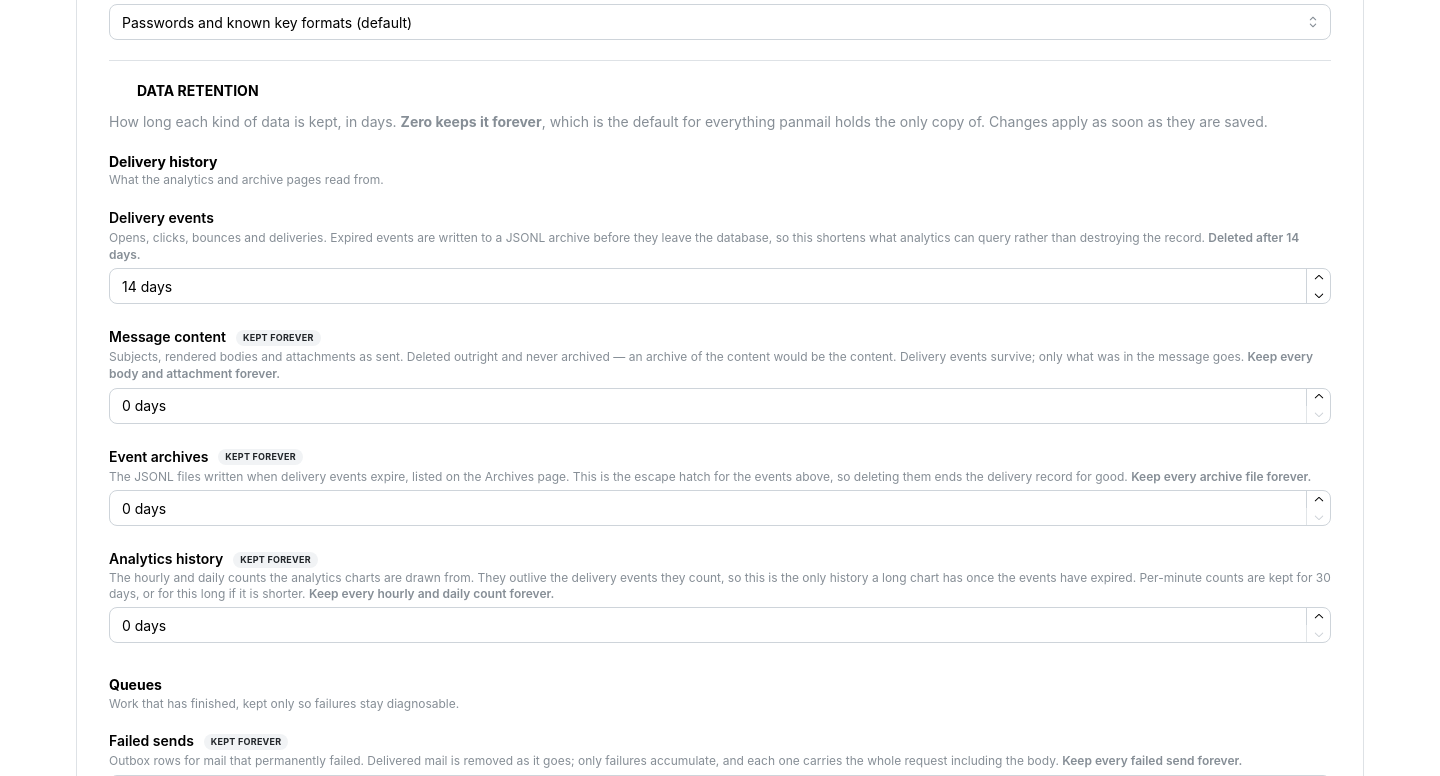
Test: SettingsPage retention › switching on message content retention asks first
(page scrolled)
Step 1. Replace the text in the field labelled "Message content Kept forever" with "30" → point(720, 406), box [109,388,1331,424]
(page scrolled)
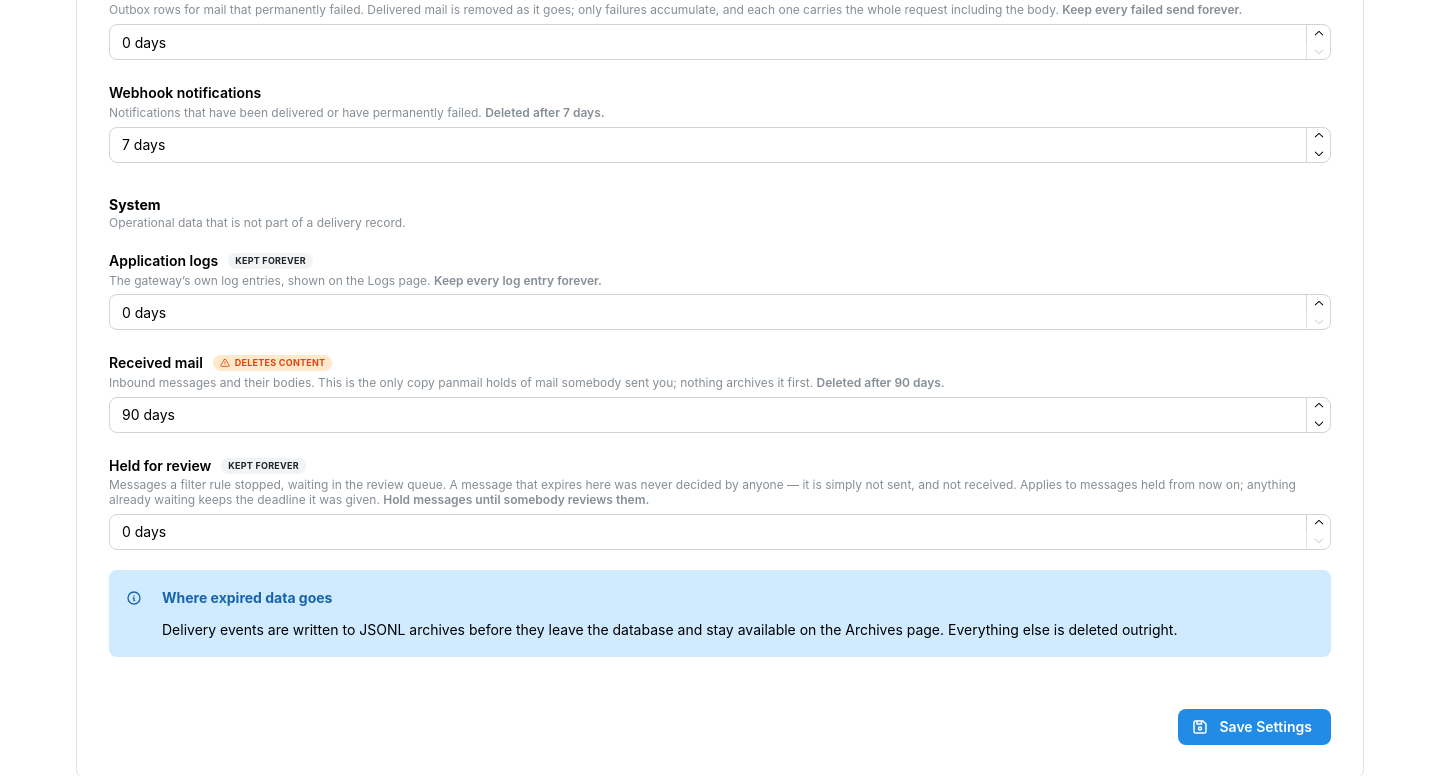
Step 2. Click the button "Save Settings" → point(1255, 727), box [1178,709,1331,745]
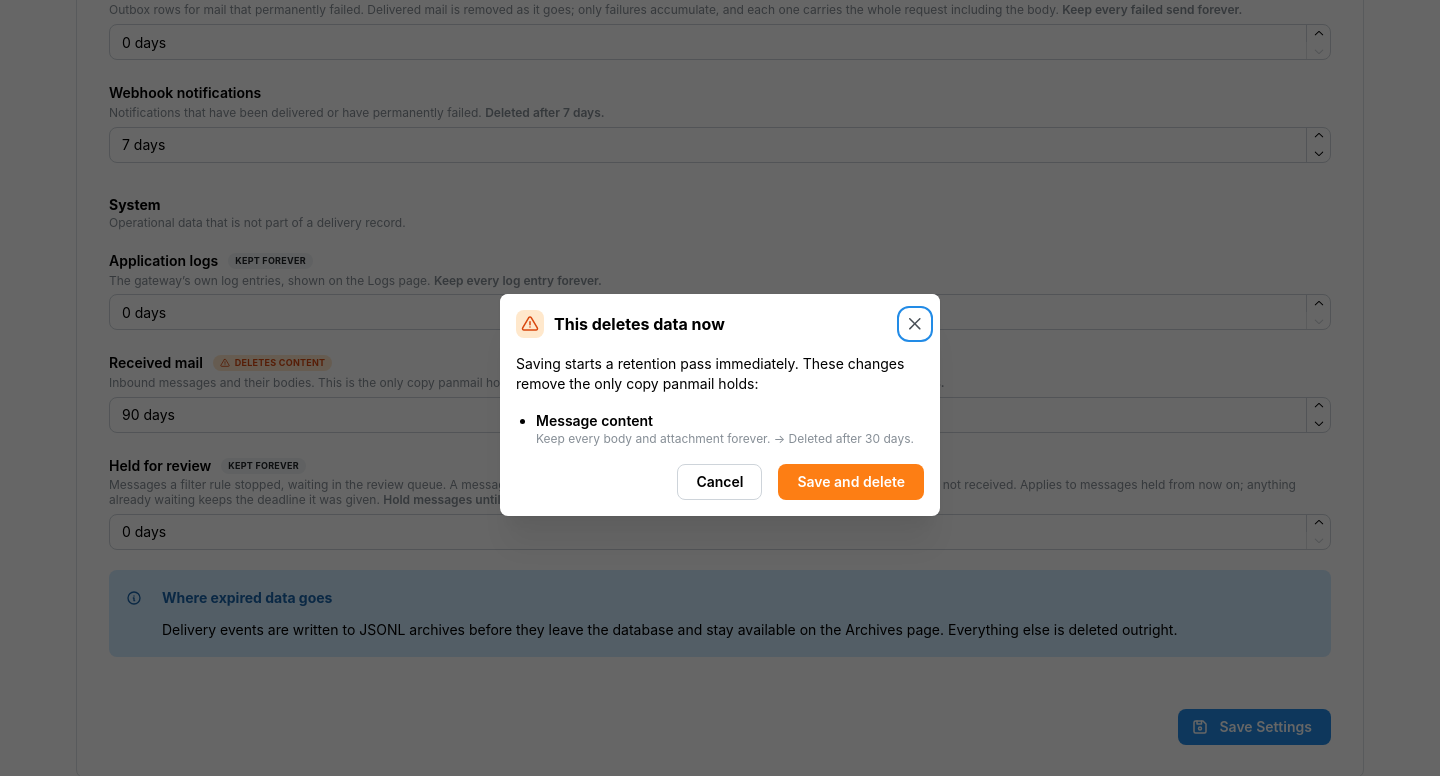
Expected: the text "This deletes data now" is shown, [554,312,725,337]
Expected: the text "Message content" is shown, [536,412,653,429]
Expected: the text "Keep every body and attachment forever. → Deleted after 30 days." is shown, [536,431,914,448]
